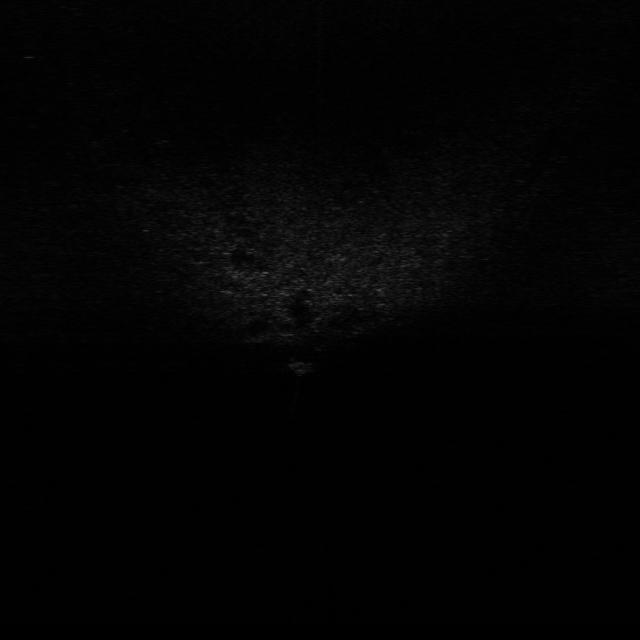cube: (287, 355, 322, 378)
